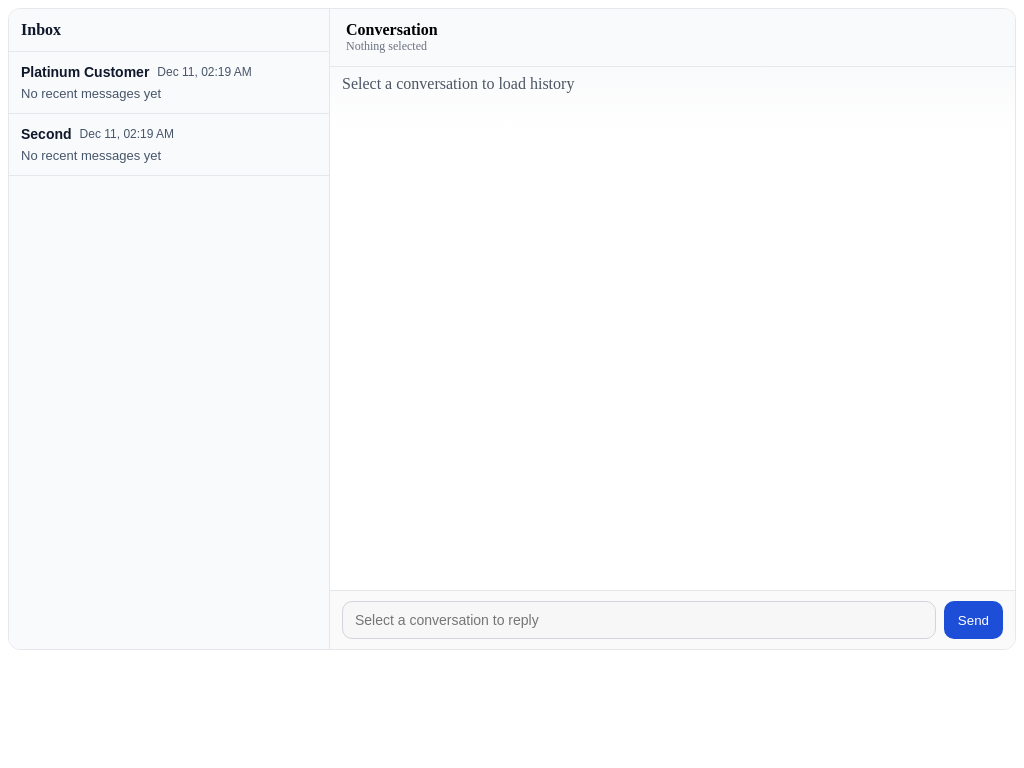
it: ConversationWorkspace › switches history when reselecting conversations
Click the option "Platinum Customer Dec 11, 02:19 AM No recent messages yet". click: (85, 72)
box: [9,52,329,113]
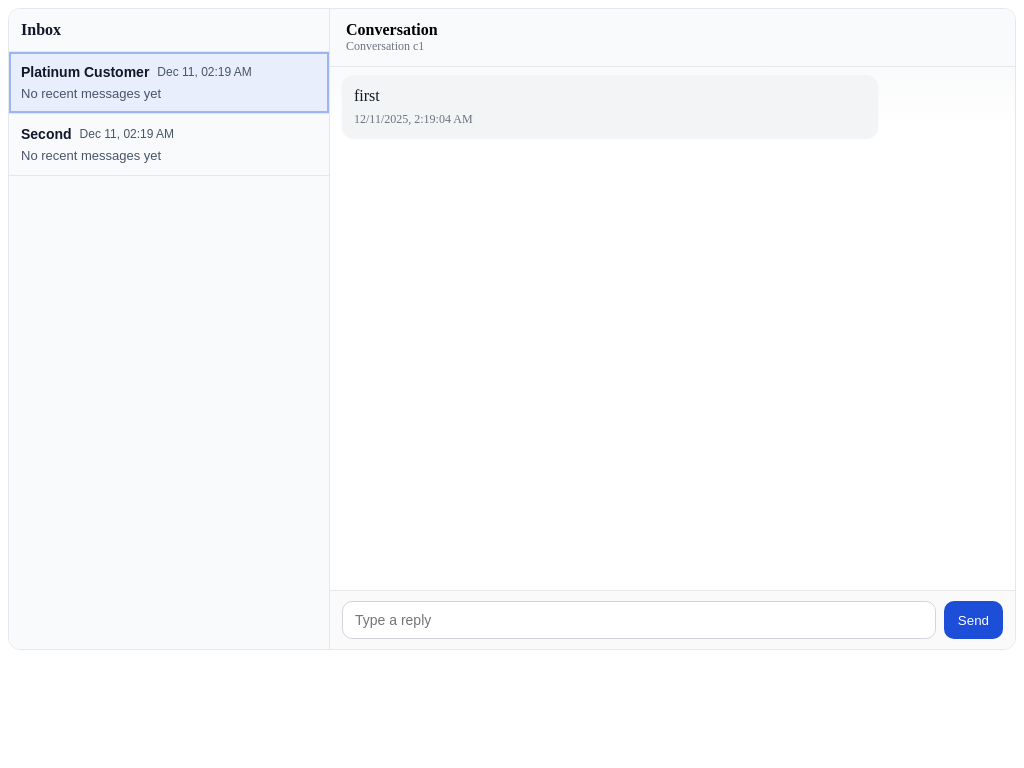
Now the text "first" is shown, box [354,87,380,104]
Click the option "Second Dec 11, 02:19 AM No recent messages yet". click: (46, 134)
box: [9,114,329,175]
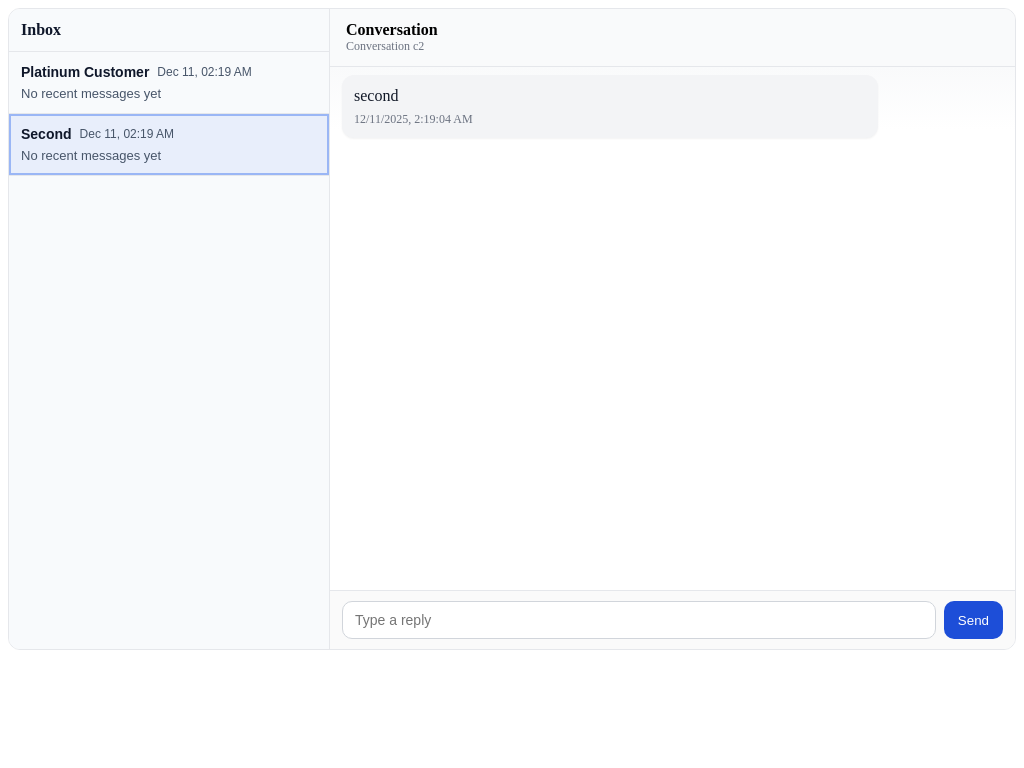
Now the text "second" is shown, box [354,87,398,104]
